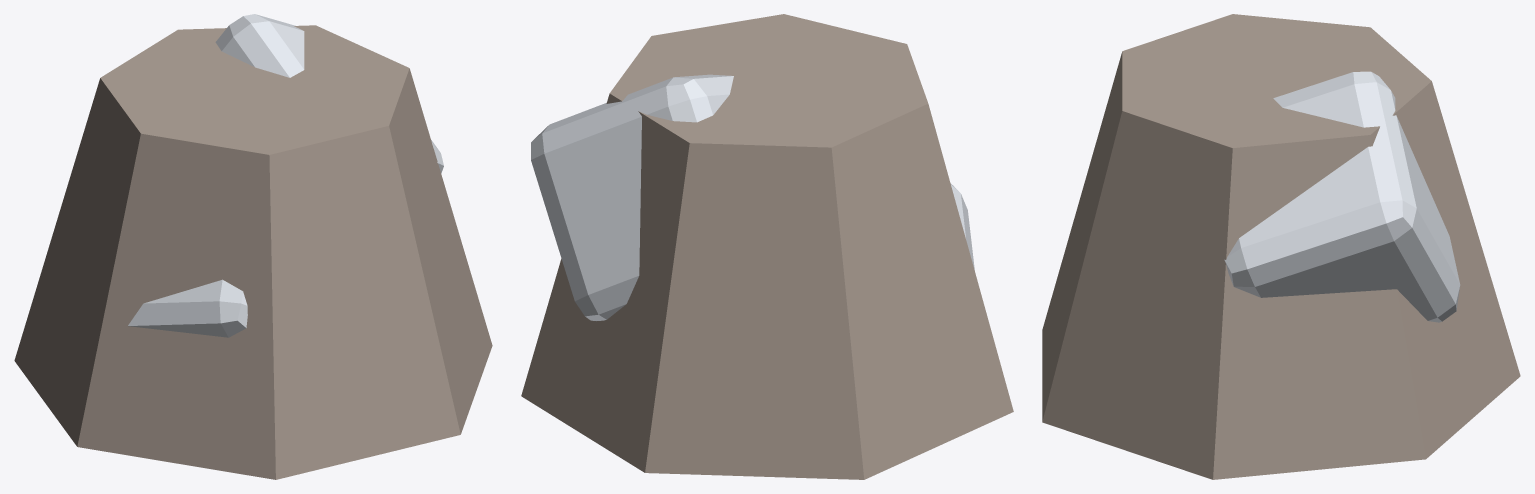
Rendered from IronOre.fbx.
3 renders of one model, left to right at view 1: azimuth 30°, elevation 25°; view 2: azimuth 150°, elevation 25°; view 3: azimuth 270°, elevation 25°, orthographic. The views are drawn at different scales.
Visible parts, largest first — view 1: MainMesh; view 2: MainMesh; view 3: MainMesh.
Boxes of the visible parts, <box> form: MainMesh: <box>14,14,492,479</box>; MainMesh: <box>521,14,1013,479</box>; MainMesh: <box>1042,14,1520,479</box>.
Bounding box in the file's own units: 1.66 × 1.2 × 1.62.
